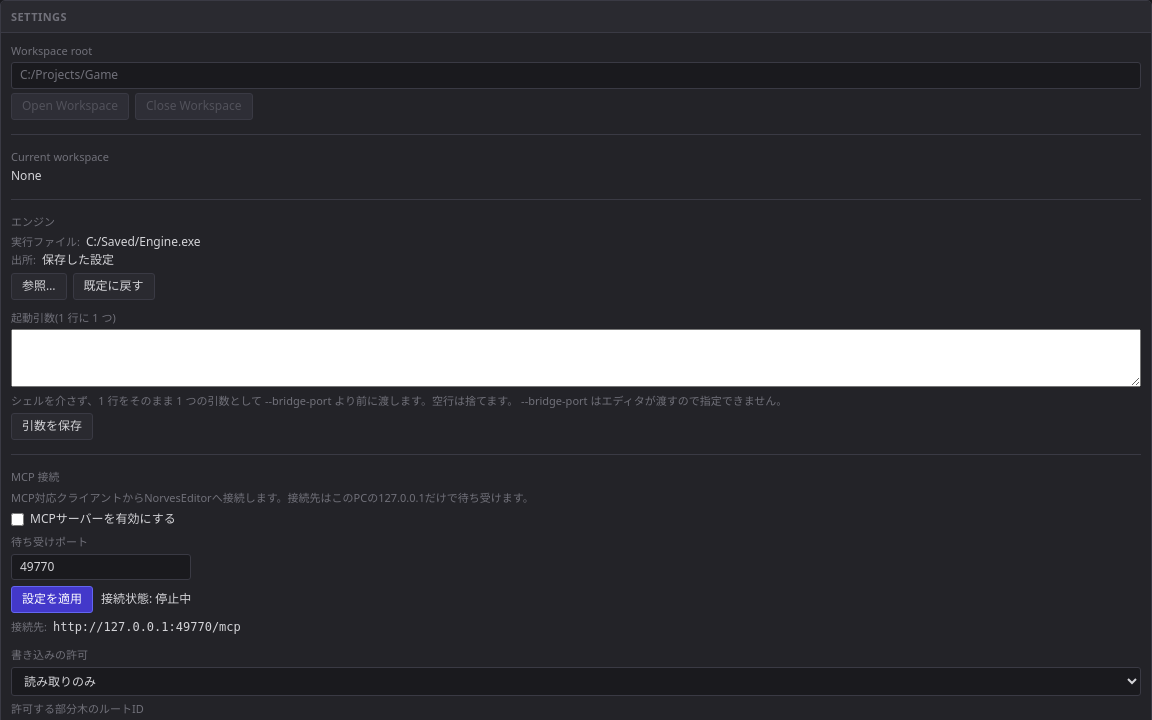
Test: SettingsPanel のエンジン欄 › 「既定に戻す」で clear_engine_path を呼び、既定値の表示に戻す
This screenshot has width=1152, height=720.
Expected: the text with test id "engine-effective-path" reads "C:/Saved/Engine.exe", left=86, top=233, right=201, bottom=250
Click the button "既定に戻す" at (114, 287), box left=72, top=273, right=154, bottom=300
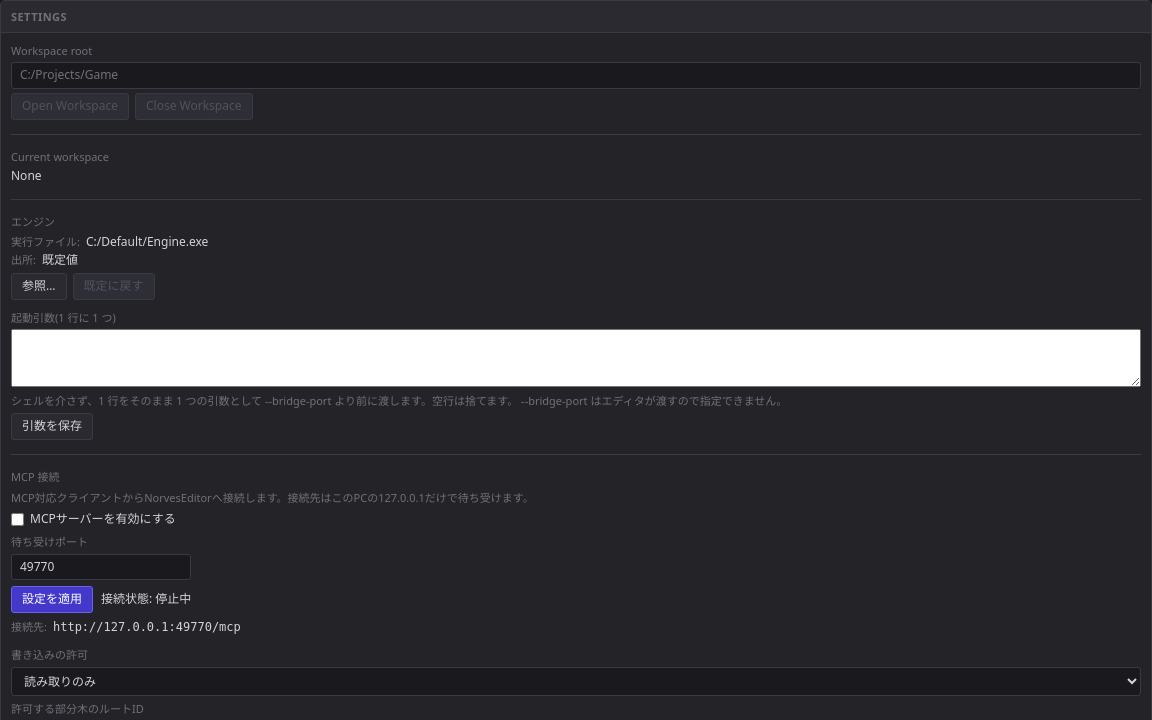
Expected: the text with test id "engine-effective-path" reads "C:/Default/Engine.exe", left=86, top=233, right=208, bottom=250
Expected: the text with test id "engine-path-source" reads "既定値", left=42, top=251, right=78, bottom=268
Expected: the button "既定に戻す" is disabled, left=72, top=273, right=154, bottom=300
